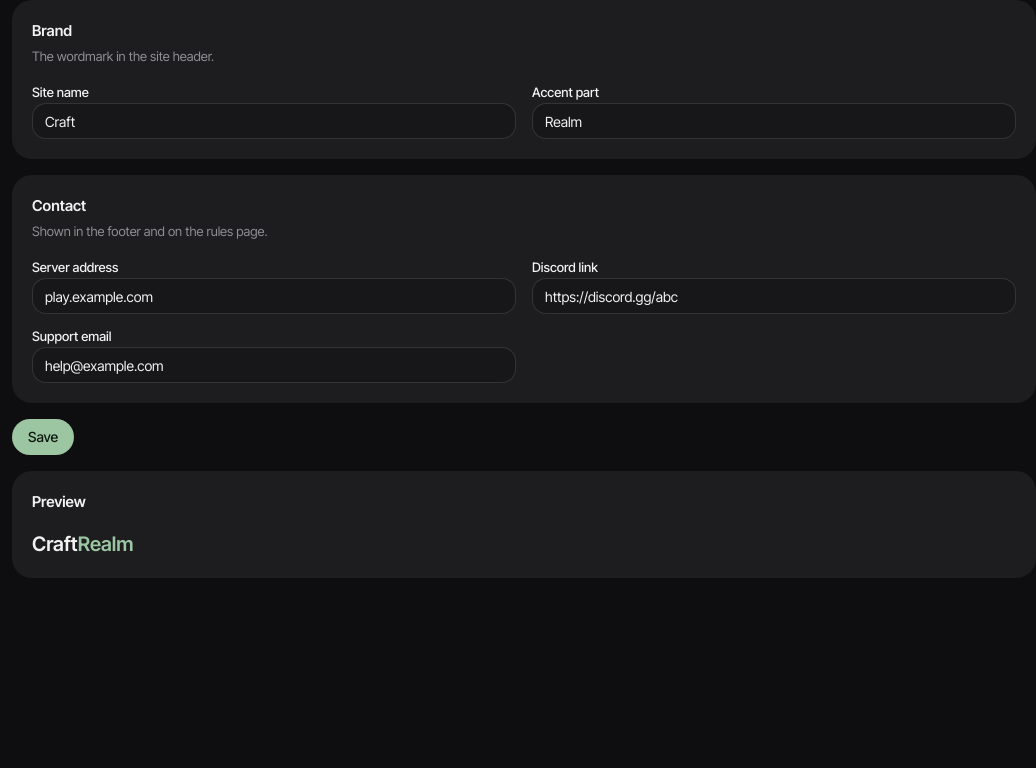
Scenario: SettingsForm › shows field errors for a bad email and an http discord link
Replace the text in the field labelled "Support email" with "nope" at (274, 365), box [32,347,516,383]
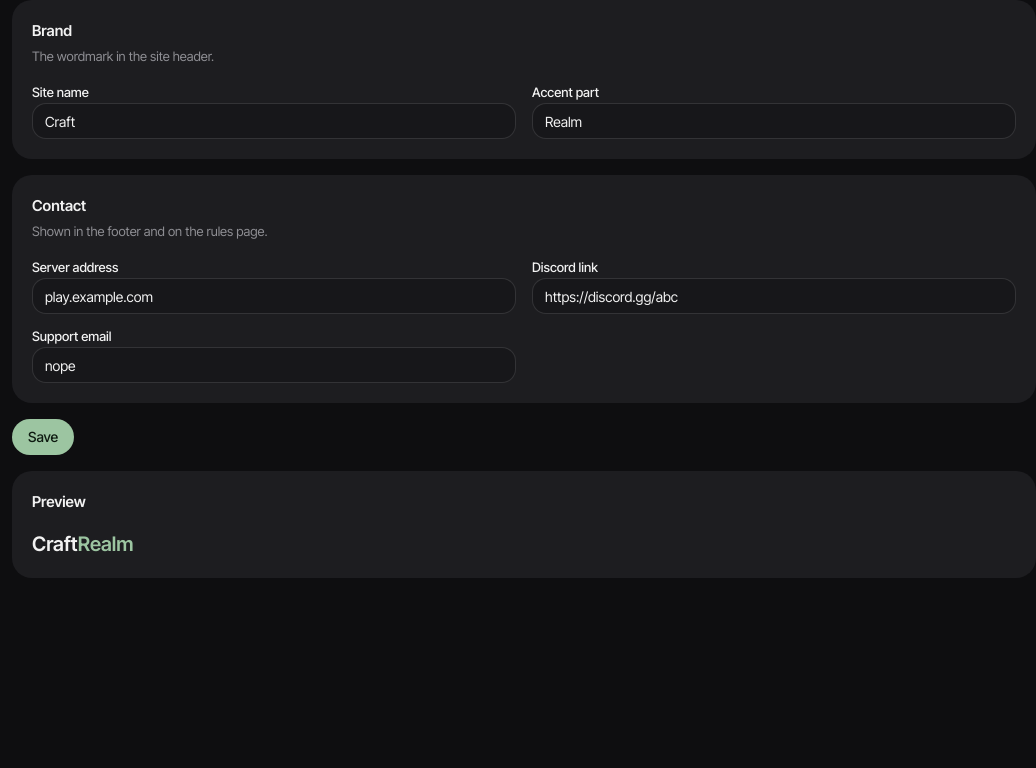
Replace the text in the field labelled "Discord link" with "http://discord.gg/abc" at (774, 296), box [532,278,1016,314]
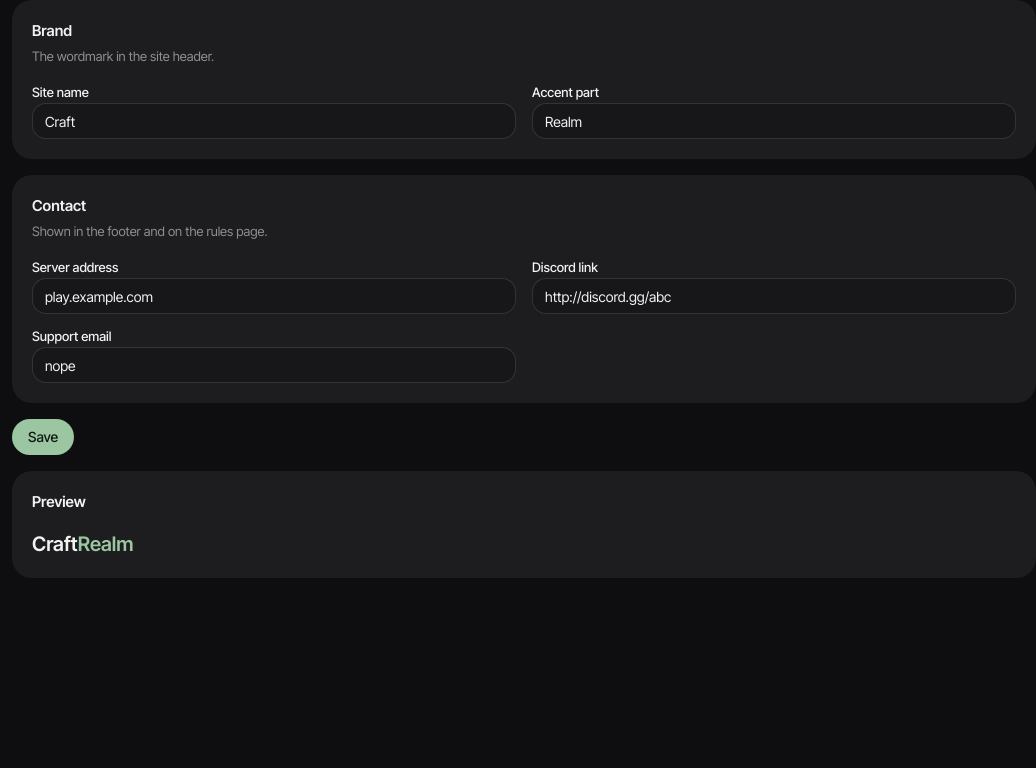
Click the button "Save".
click(43, 437)  # box [12,419,74,455]
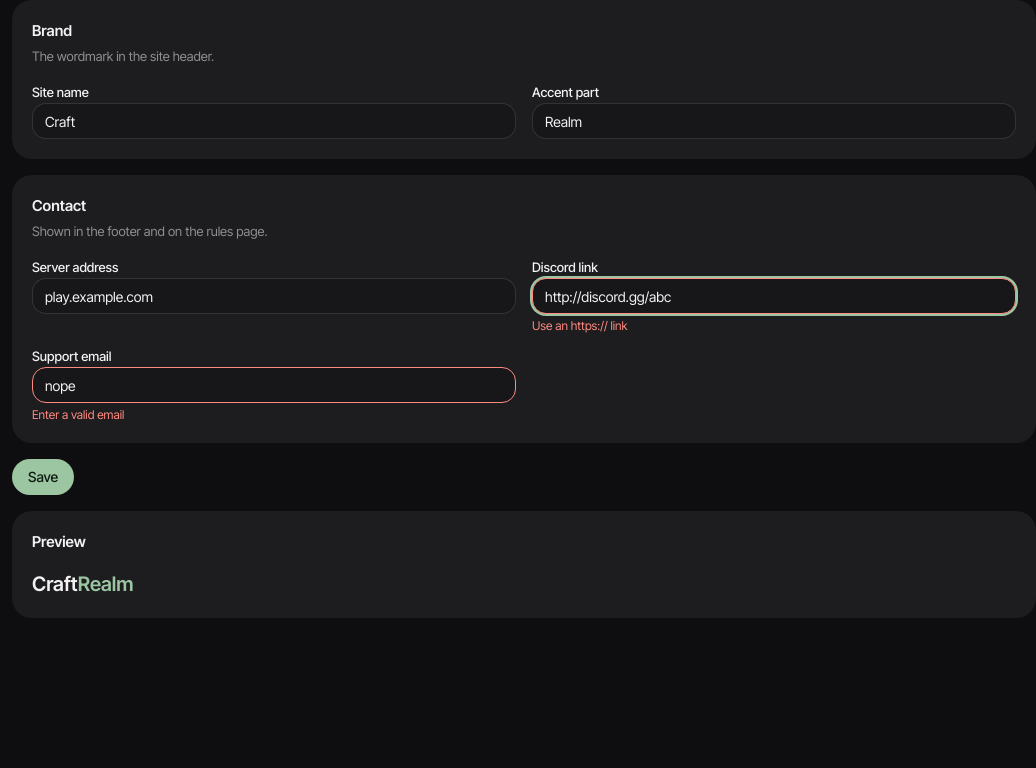
Expected: the text "Use an https:// link" is shown, [532,318,627,333]
